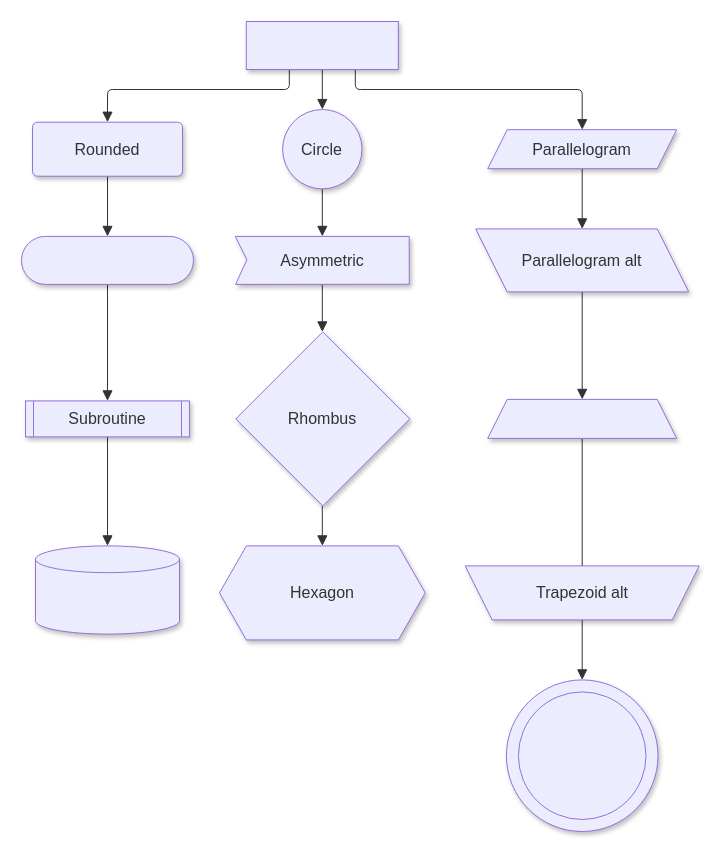
Some shapes in this 723 by 856 pixel diagram are drawn without their labels. Here are the shapes that lost their labels. From the top down, the centre of each, then its label:
point 322,46: Rectangle
point 108,261: Stadium
point 583,419: Trapezoid
point 108,591: Cylinder
point 582,756: Double circle
